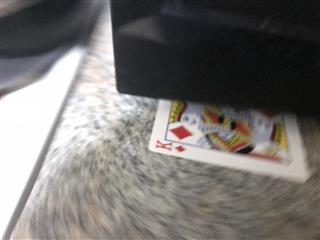KingOfDiamonds: (147, 98, 310, 184)
